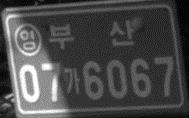0: (105, 58, 128, 100), (18, 64, 41, 104)
6: (129, 56, 154, 99), (81, 59, 104, 101)
7: (153, 55, 175, 99), (40, 61, 61, 103)
가: (63, 67, 81, 95)
부산_D: (48, 19, 135, 49)
영: (13, 23, 42, 56)
